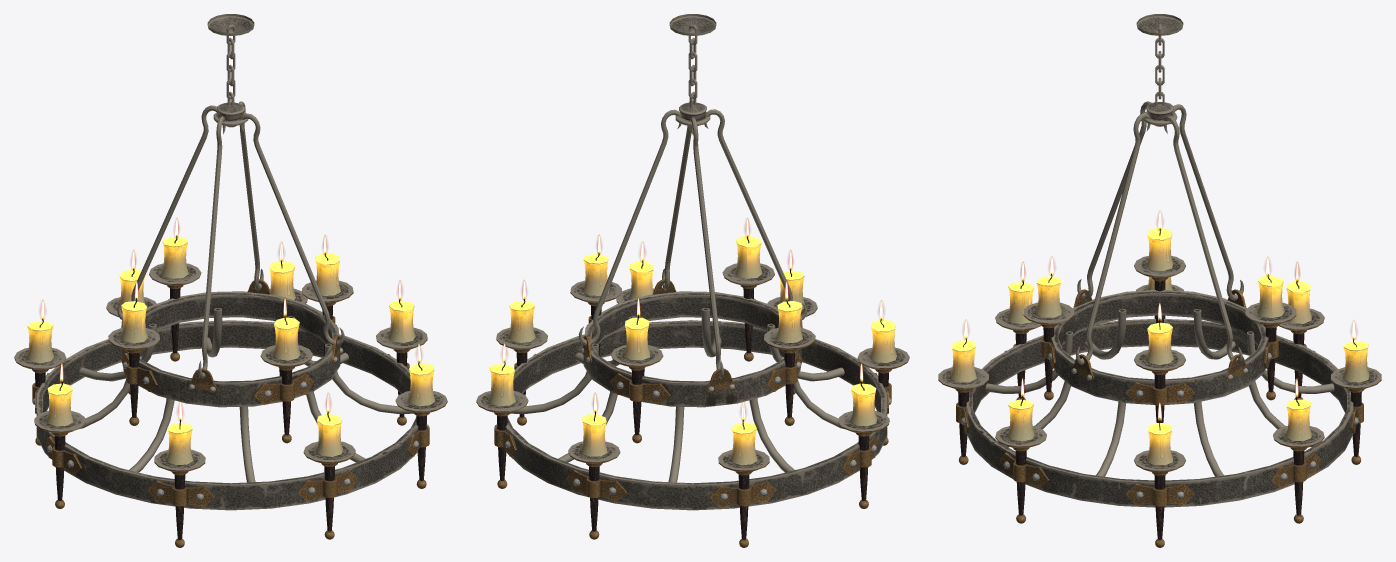
3 views of the same model, side by side, from view 1: azimuth 30°, elevation 25°; view 2: azimuth 150°, elevation 25°; view 3: azimuth 270°, elevation 25° (orthographic).
Visible parts, largest first — view 1: group42; view 2: group42; view 3: group42.
Part boxes in pixels (x1=…): group42: x1=14, y1=14, x2=447, y2=547; group42: x1=476, y1=14, x2=909, y2=547; group42: x1=938, y1=14, x2=1381, y2=547.
Size of the model in its own units: 38.71 by 42.47 by 38.71.
2 materials, 2 textured.
